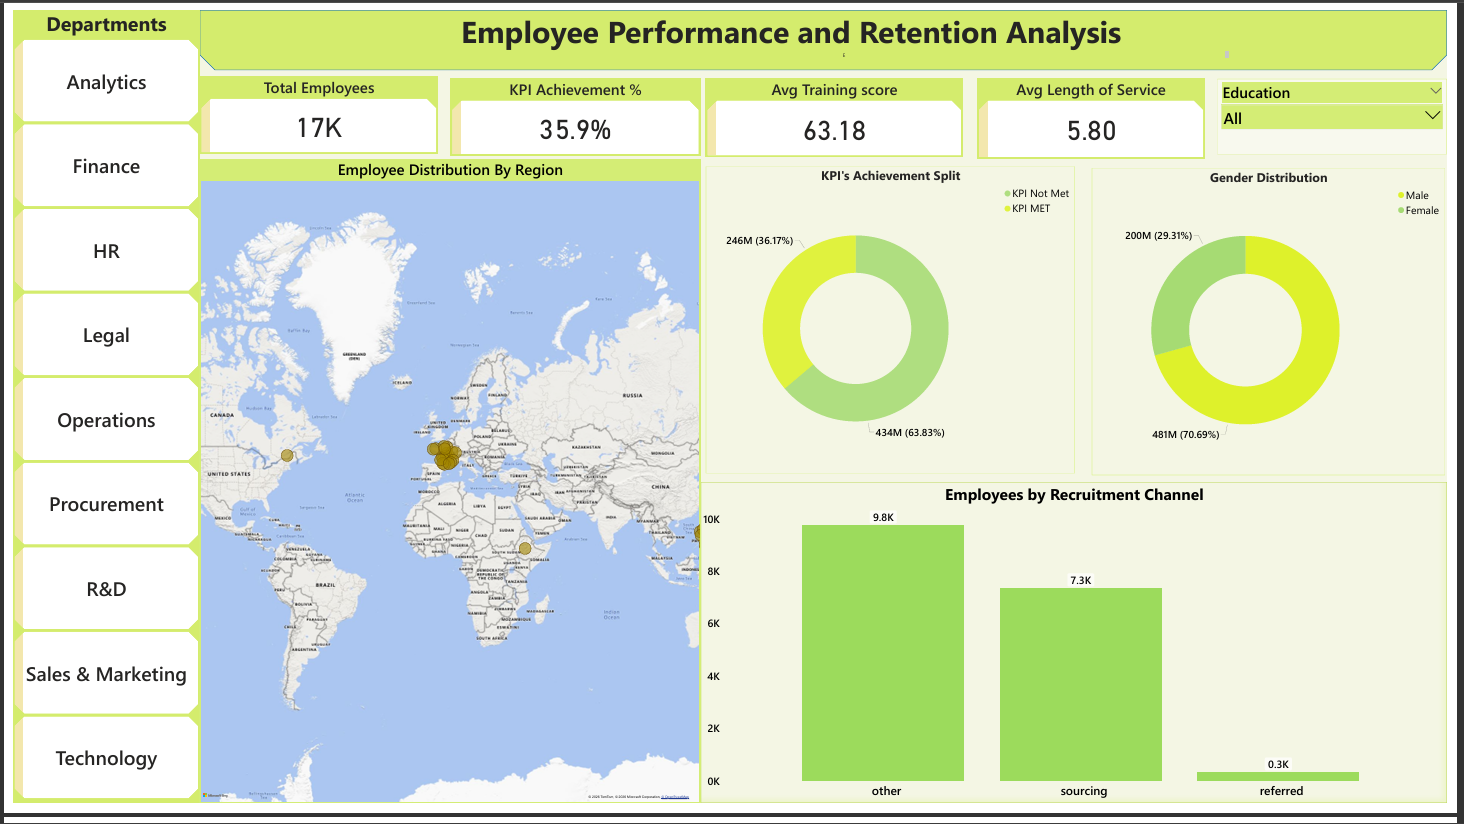

The page's visual inventory and layout, read from the dashboard file:
{"tool":"powerbi","page":{"name":"Overall workflow","canvas":[3800,2100],"ordinal":0},"visuals":[{"type":"shape","box":[495.5,0,3304.5,159.1],"z":0},{"type":"textbox","title":" Employee   Performance   and   Retention   Analysis","box":[1181.8,0,2045.5,131.8],"z":1000},{"type":"cardVisual","title":"Total Employees","fields":{"Data":["employees_cleaned.Total Employees"]},"box":[495.5,177.3,631.8,204.5],"z":2000},{"type":"cardVisual","title":"Avg Training score","fields":{"Data":["employees_cleaned.Average Training Score"]},"box":[1836.4,181.8,681.8,209.1],"z":3000},{"type":"cardVisual","title":"Avg Length of Service","fields":{"Data":["employees_cleaned.Avg Length of Service"]},"box":[2554.5,181.8,604.5,213.6],"z":4000},{"type":"advancedSlicerVisual","title":"Departments","fields":{"Values":["employees_cleaned.department"]},"box":[0,0,495.5,2100],"z":5000},{"type":"donutChart","title":"KPI''s Achievement Split","fields":{"Y":["Sum(employees_cleaned.employee_id)"],"Category":["employees_cleaned.KPI Status"]},"box":[1836.4,413.6,977.3,813.6],"z":6000},{"type":"cardVisual","title":"KPI Achievement %","fields":{"Data":["employees_cleaned.KPI Achievement %"]},"box":[1159.1,181.8,663.6,204.5],"z":7000},{"type":"donutChart","title":"Gender Distribution","fields":{"Y":["Sum(employees_cleaned.employee_id)"],"Category":["employees_cleaned.gender"]},"box":[2859.1,418.2,936.4,813.6],"z":8000},{"type":"lineClusteredColumnComboChart","title":"Employees by Recruitment Channel","fields":{"Category":["employees_cleaned.recruitment_channel"],"Y":["CountNonNull(employees_cleaned.employee_id)"]},"box":[1822.7,1250,1977.3,850],"z":9000},{"type":"map","title":"Employee Distribution By Region","fields":{"Category":["employees_cleaned.region"]},"box":[495.5,395.5,1327.3,1704.5],"z":10000},{"type":"slicer","fields":{"Values":["employees_cleaned.education"]},"box":[3190.9,181.8,609.1,200],"z":11000}]}

Visuals, with their boxes in screenshot pixels (x1, y1, x2, y2), scaled from the page's 3800x2100 canvas onto the 1464x824 screenshot:
shape: [x1=191, y1=0, x2=1463, y2=62]
" Employee   Performance   and   Retention   Analysis" textbox: [x1=455, y1=0, x2=1243, y2=52]
"Total Employees" cardVisual: [x1=191, y1=70, x2=434, y2=150]
"Avg Training score" cardVisual: [x1=707, y1=71, x2=970, y2=153]
"Avg Length of Service" cardVisual: [x1=984, y1=71, x2=1217, y2=155]
"Departments" advancedSlicerVisual: [x1=0, y1=0, x2=191, y2=823]
"KPI''s Achievement Split" donutChart: [x1=707, y1=162, x2=1084, y2=482]
"KPI Achievement %" cardVisual: [x1=447, y1=71, x2=702, y2=152]
"Gender Distribution" donutChart: [x1=1102, y1=164, x2=1462, y2=483]
"Employees by Recruitment Channel" lineClusteredColumnComboChart: [x1=702, y1=490, x2=1463, y2=823]
"Employee Distribution By Region" map: [x1=191, y1=155, x2=702, y2=823]
slicer - employees_cleaned.education: [x1=1229, y1=71, x2=1463, y2=150]
